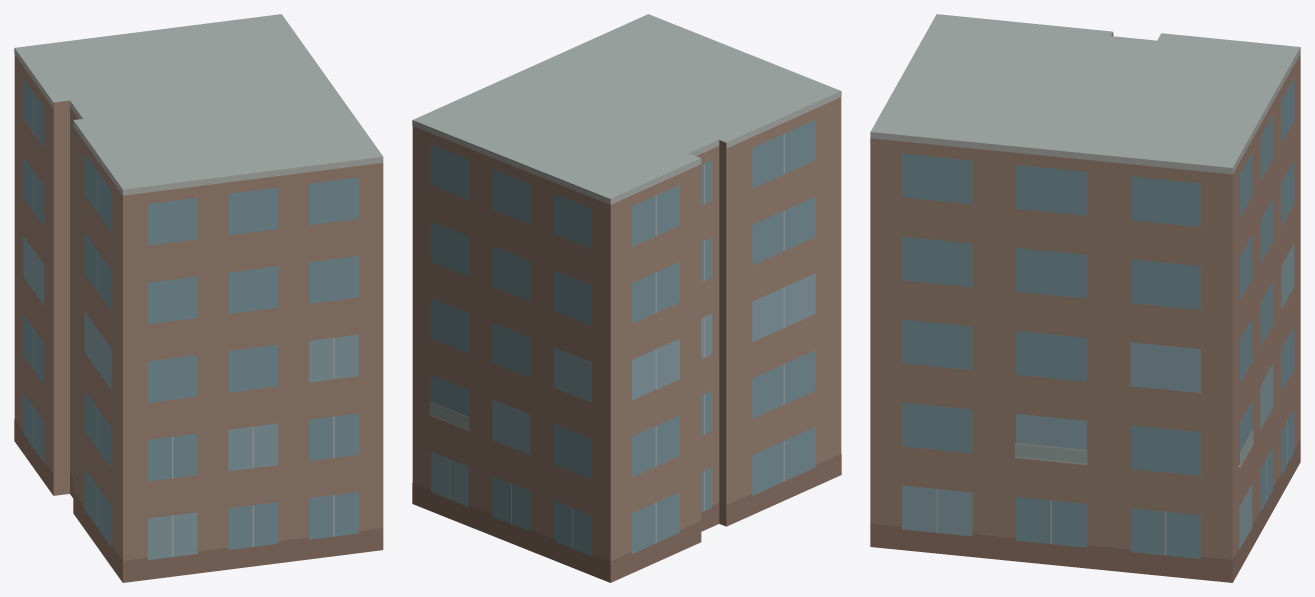
File: survey-upis-32537157.glb
3 renders of one model, left to right at view 1: azimuth 30°, elevation 25°; view 2: azimuth 150°, elevation 25°; view 3: azimuth 270°, elevation 25°, orthographic. The views are drawn at different scales.
Visible parts, largest first — view 1: survey-upis-32537157.tmp; view 2: survey-upis-32537157.tmp; view 3: survey-upis-32537157.tmp.
Boxes of the visible parts, x1,y1,x2,y2 form: survey-upis-32537157.tmp: (14, 14, 383, 582); survey-upis-32537157.tmp: (412, 14, 841, 582); survey-upis-32537157.tmp: (870, 14, 1300, 582).
Size of the model in its own units: 12.59 by 15.8 by 14.86.
